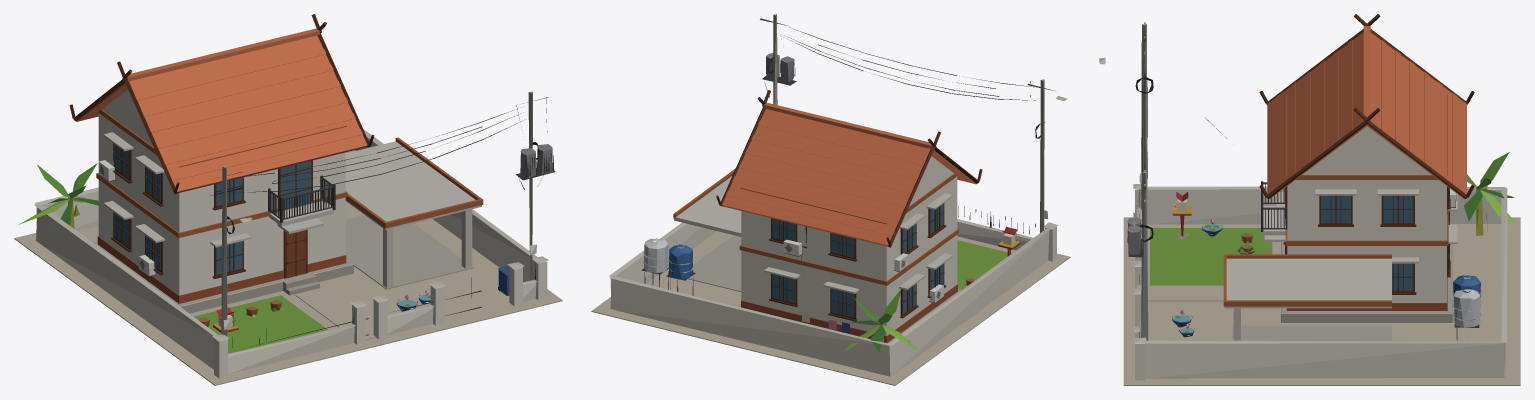
Rendered from home_2.glb.
3 views of the same model, side by side, from view 1: azimuth 30°, elevation 25°; view 2: azimuth 150°, elevation 25°; view 3: azimuth 270°, elevation 25° (orthographic). The views are drawn at different scales.
Parts seen in each view (by area): view 1: body, windows; view 2: body, windows; view 3: body, windows.
Boxes of the visible parts, left/top/right/bottom form: body: left=14, top=14, right=562, bottom=385; windows: left=114, top=144, right=311, bottom=274; body: left=591, top=14, right=1070, bottom=385; windows: left=772, top=99, right=1066, bottom=317; body: left=1099, top=14, right=1520, bottom=385; windows: left=1100, top=63, right=1413, bottom=291.
Size of the model in its own units: 16.5 by 10.07 by 16.88.
